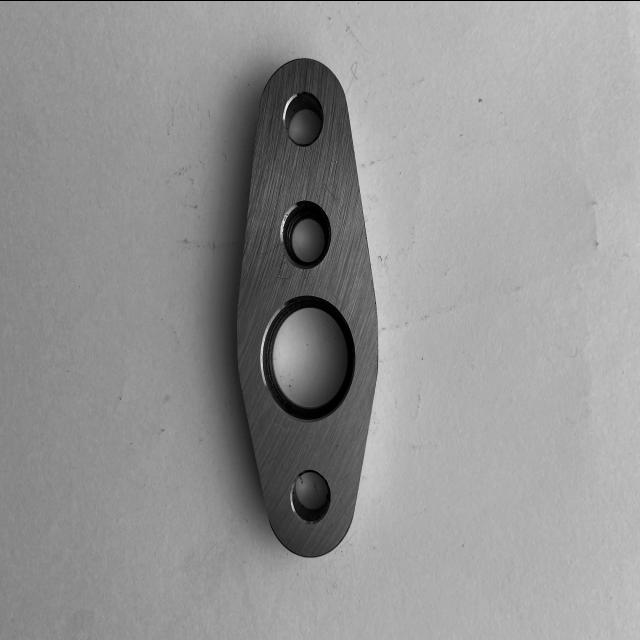chap: (334, 156, 338, 162)
lines: (278, 260, 296, 279), (324, 183, 339, 203)
